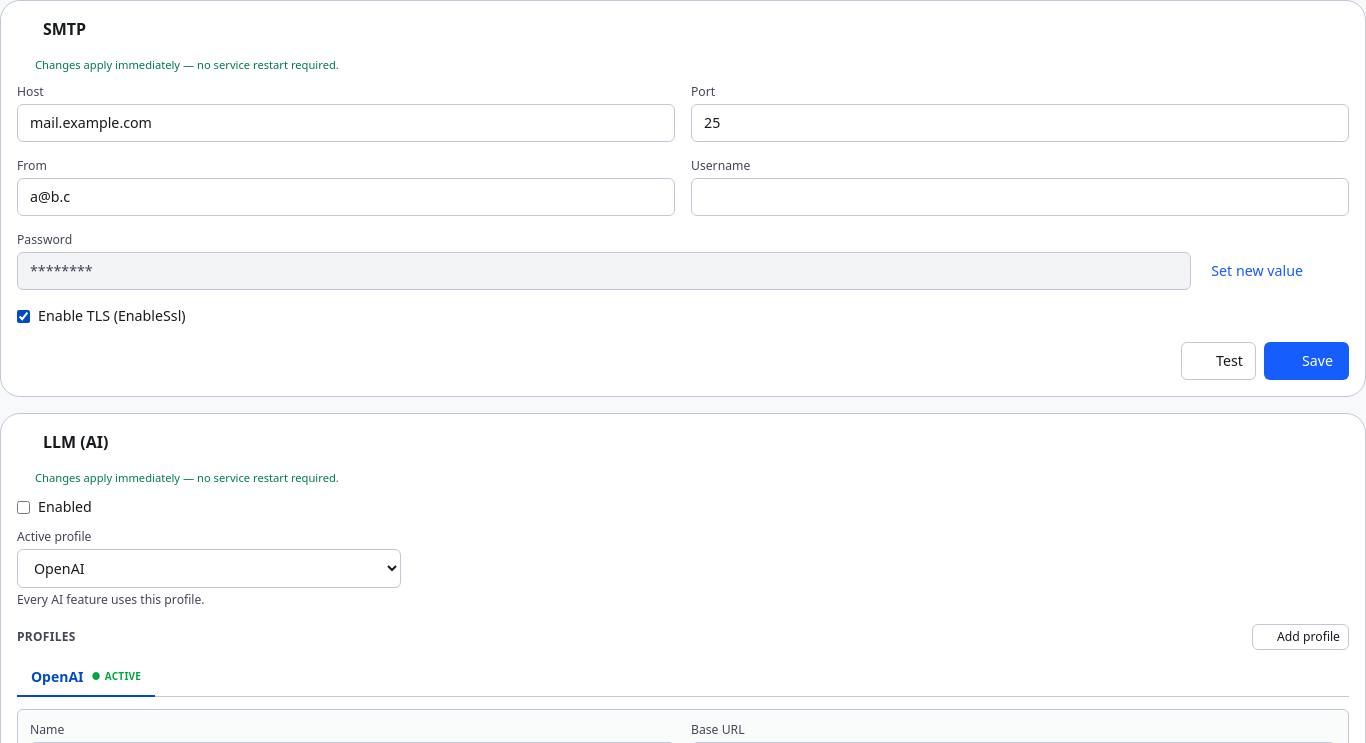
Scenario: IntegrationsSection — SMTP card › preserves a typed secret and original ETag across a background refresh, then resets after acknowledged save
The image size is (1366, 743).
Check: the field showing "mail.example.com" is shown, box [17, 104, 675, 142]
Click the button "Set new value": click(1257, 271) [1199, 255, 1315, 287]
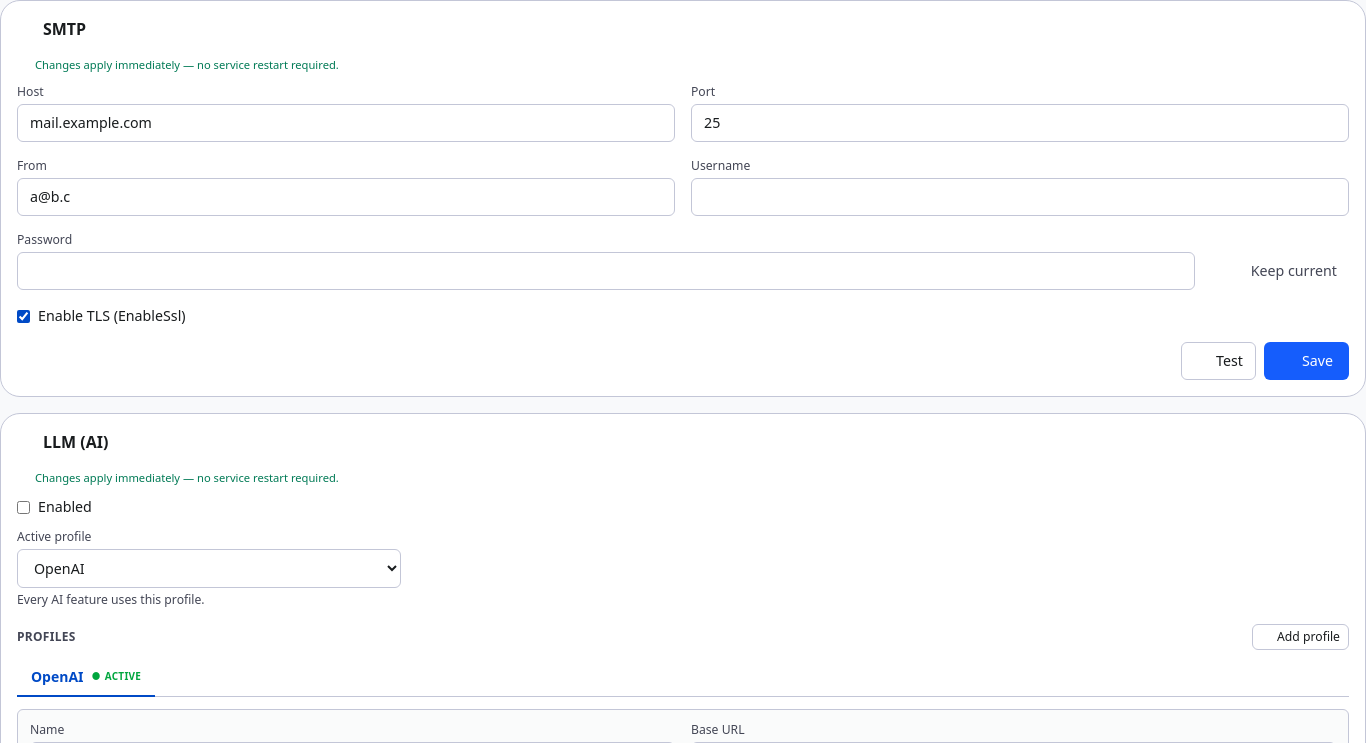
In the password field with id "smtp-password": (606, 271) [17, 252, 1195, 290], type "draft-secret"
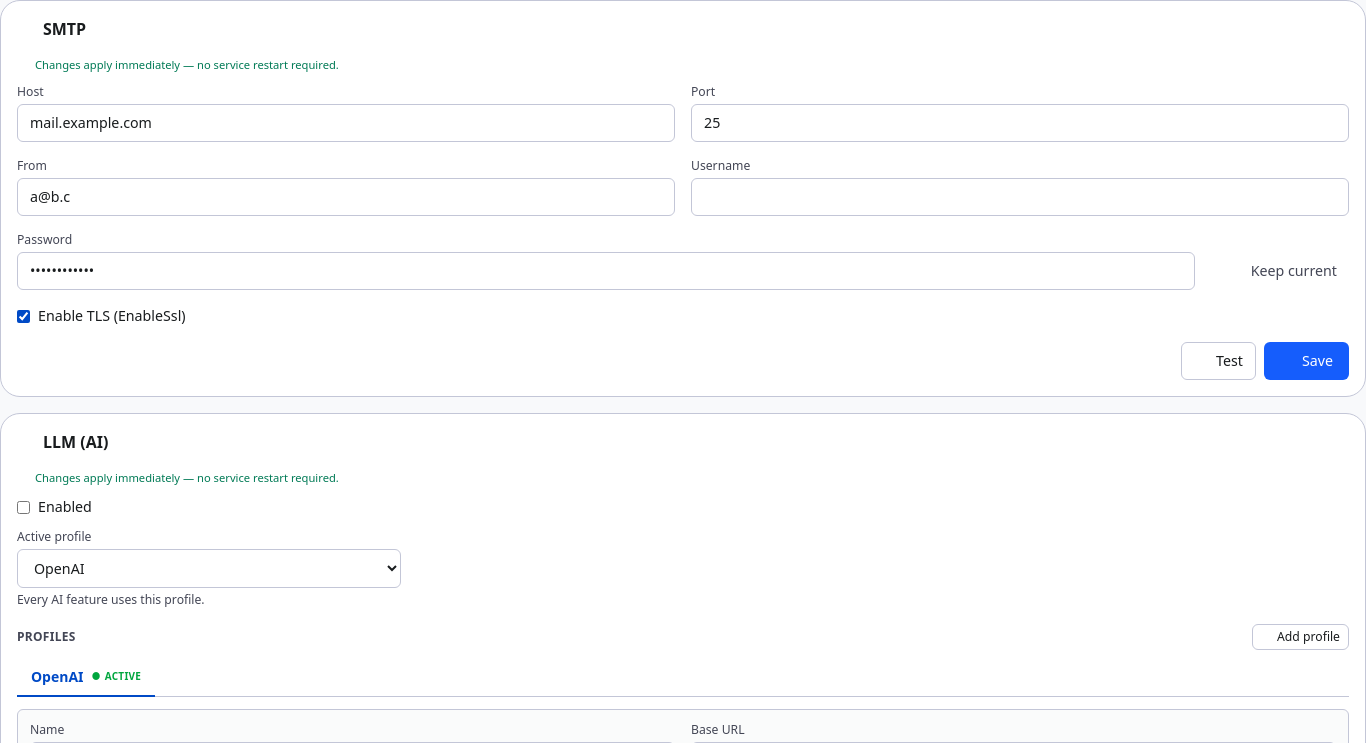
Check: the field showing "mail.example.com" is shown, box [17, 104, 675, 142]
Click the button "Save": click(1306, 361) [1264, 342, 1349, 380]
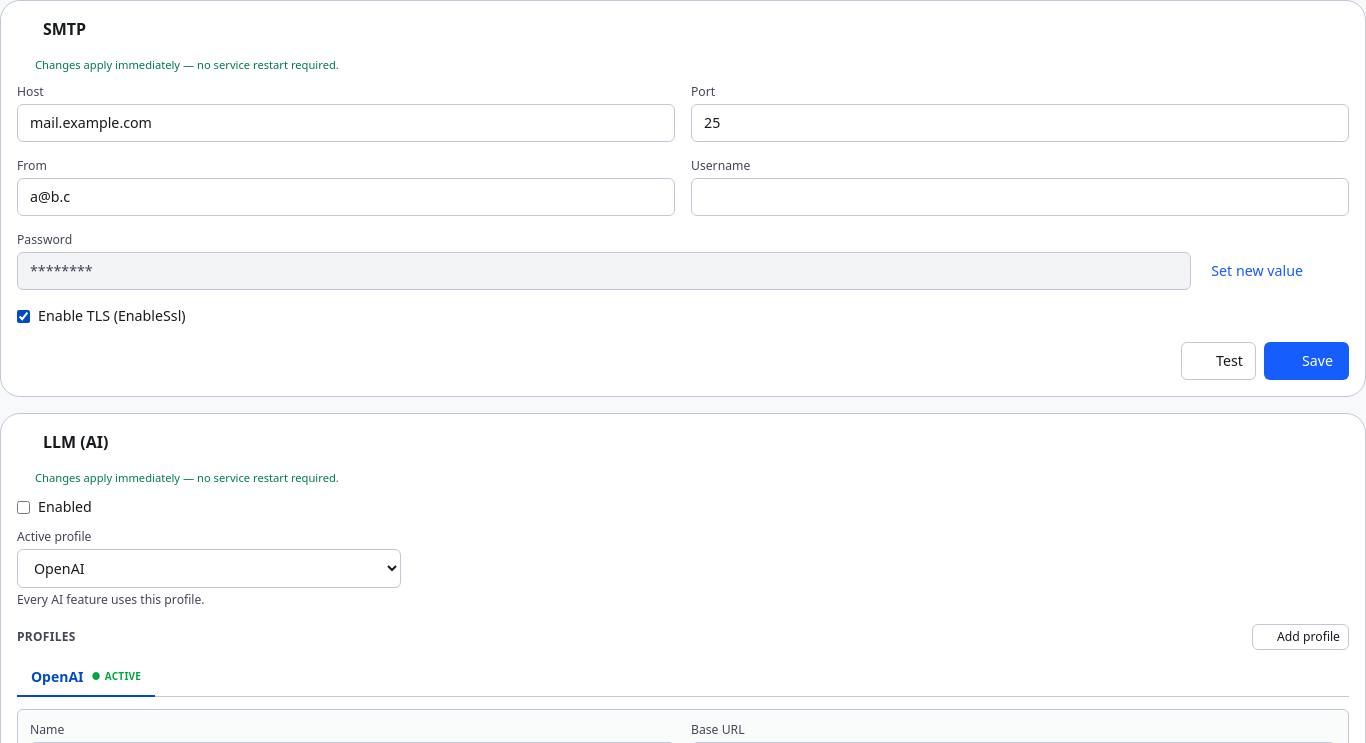
Check: the field showing "********" is shown, box [17, 252, 1191, 290]
